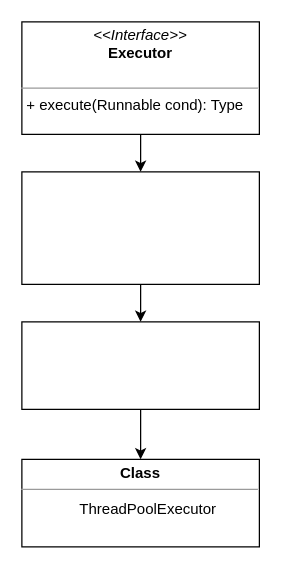
Some shapes in this 281 by 569 pixel diagram are drawn without their labels. Here are the shapes that lost their labels. From the top down, the centre of each, then its label:
pixel 140 227: <<Interface>> ExecutorService + shutdown ()
pixel 140 365: Class AbstractExecutorService
